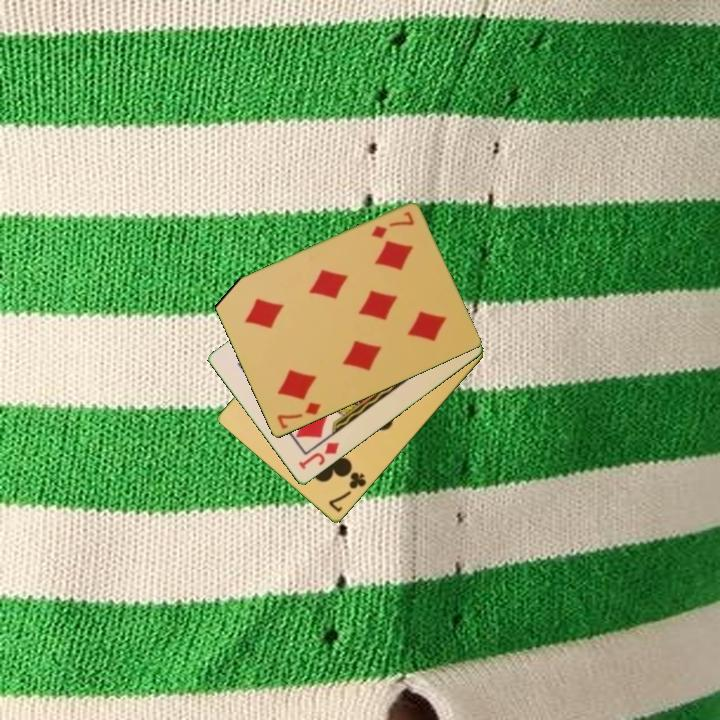7c: (325, 469, 369, 516)
7d: (273, 399, 324, 432), (368, 208, 417, 242)
Jd: (295, 439, 342, 473)
